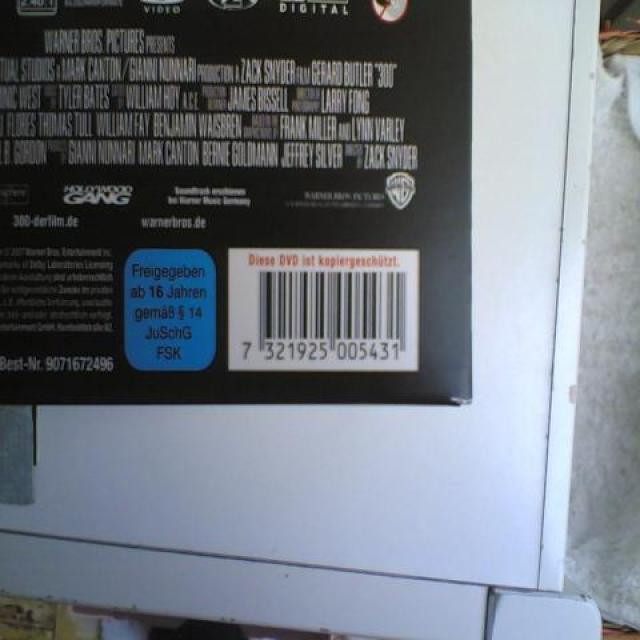Barcode: (228, 247, 420, 371)
